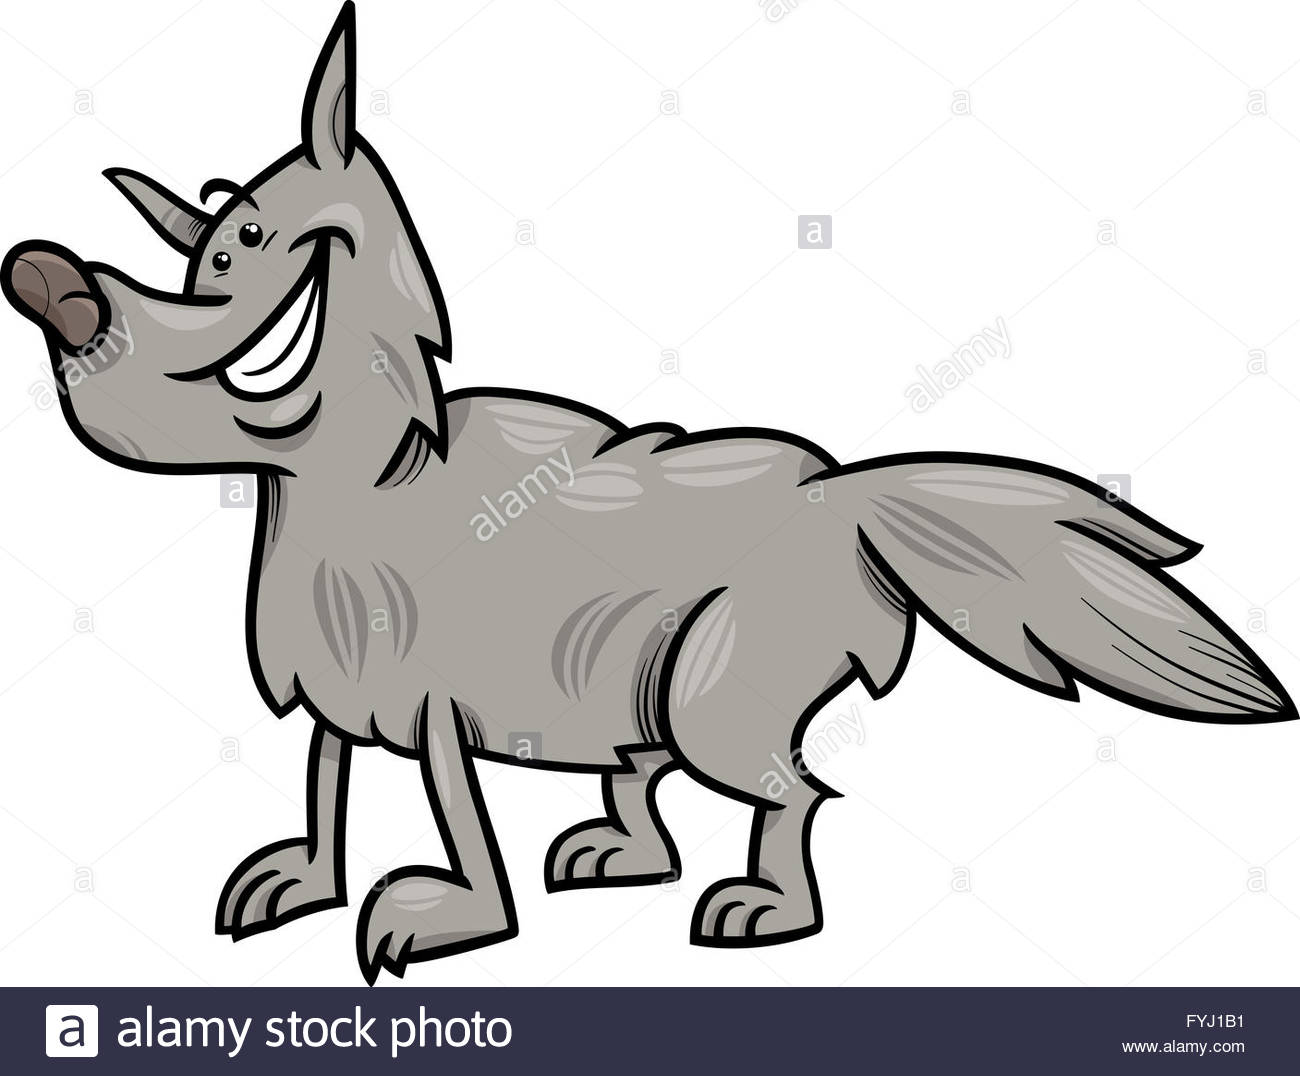Lobo: (1, 4, 1282, 943)
